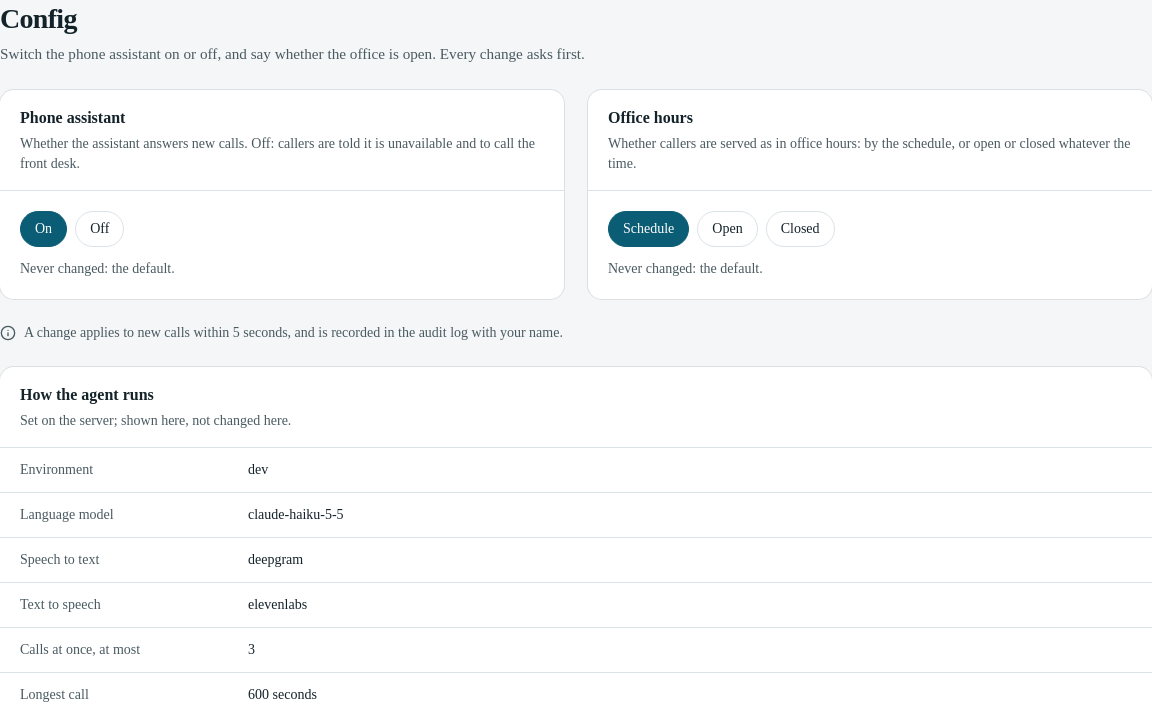
Scenario: Config › shows an unchanged setting as such
Click the radio button labelled "Open": (727, 229) x1=697 y1=211 x2=758 y2=247
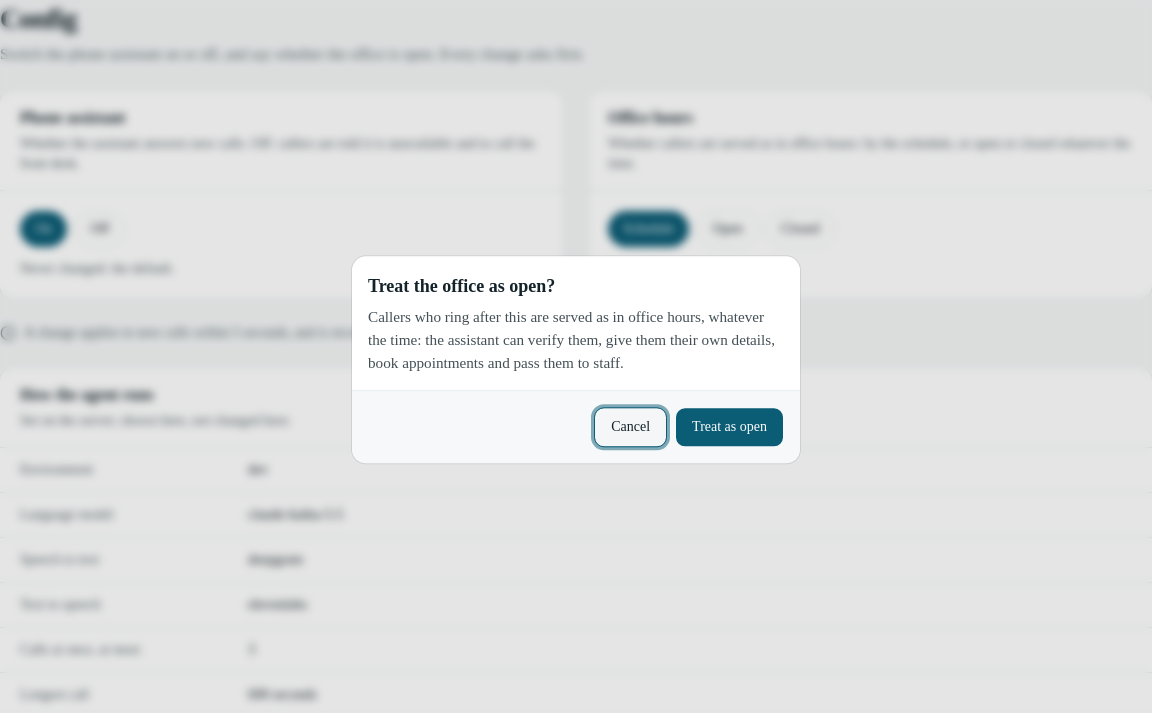
Click the button "Treat as open": (730, 428) x1=675 y1=408 x2=784 y2=448
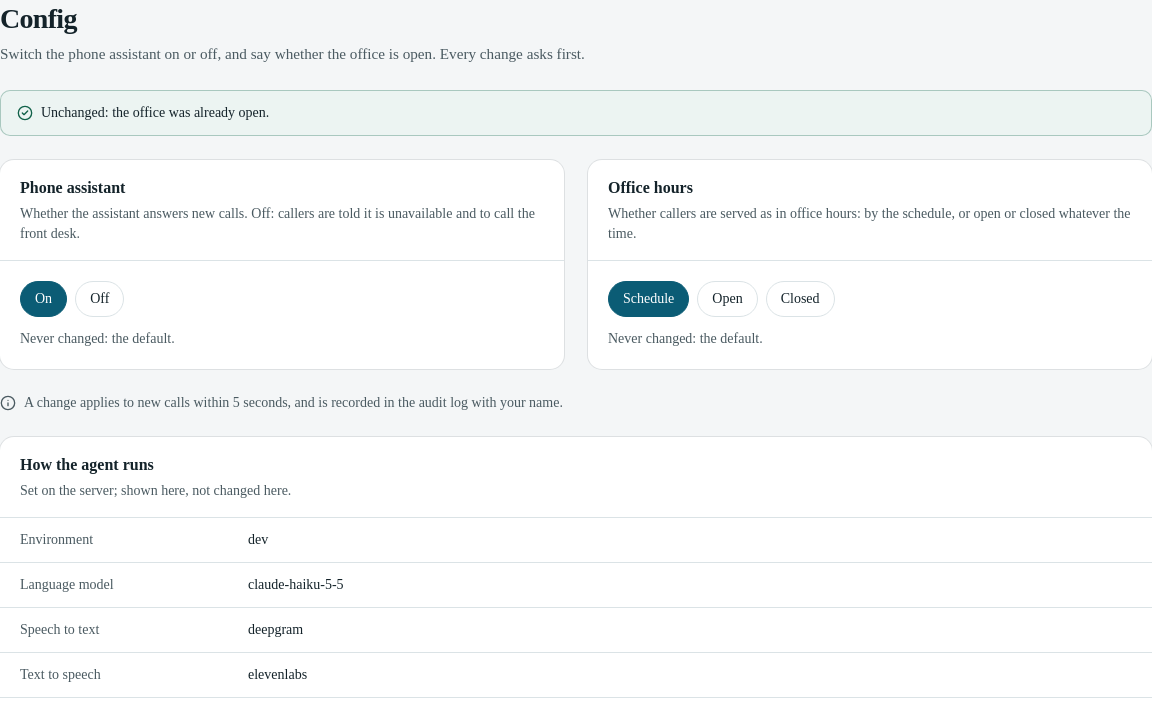
Check: the text "Unchanged: the office was already open." is shown, box x1=41 y1=103 x2=269 y2=123
